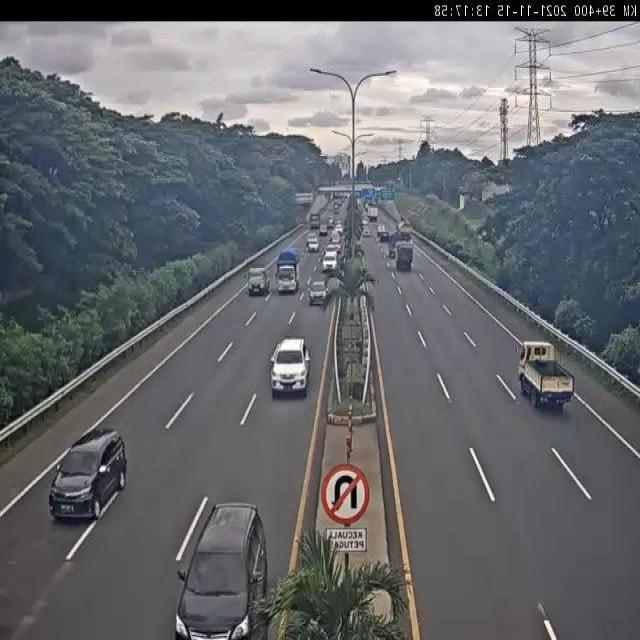Car: (175, 502, 267, 637), (48, 422, 128, 526), (269, 336, 311, 396), (247, 267, 270, 296), (308, 279, 328, 306), (322, 250, 338, 272), (307, 236, 319, 253)
Truck: (519, 340, 575, 410), (276, 246, 299, 294), (395, 239, 413, 271)
